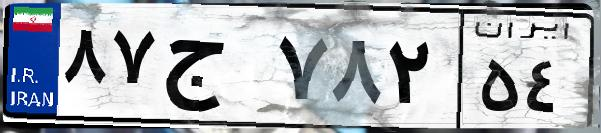2: (385, 28, 445, 110)
4: (525, 38, 570, 115)
5: (475, 38, 525, 113)
7: (270, 28, 330, 110), (110, 28, 158, 98)
8: (330, 28, 385, 110), (57, 26, 110, 100)
ج: (158, 20, 270, 120)
